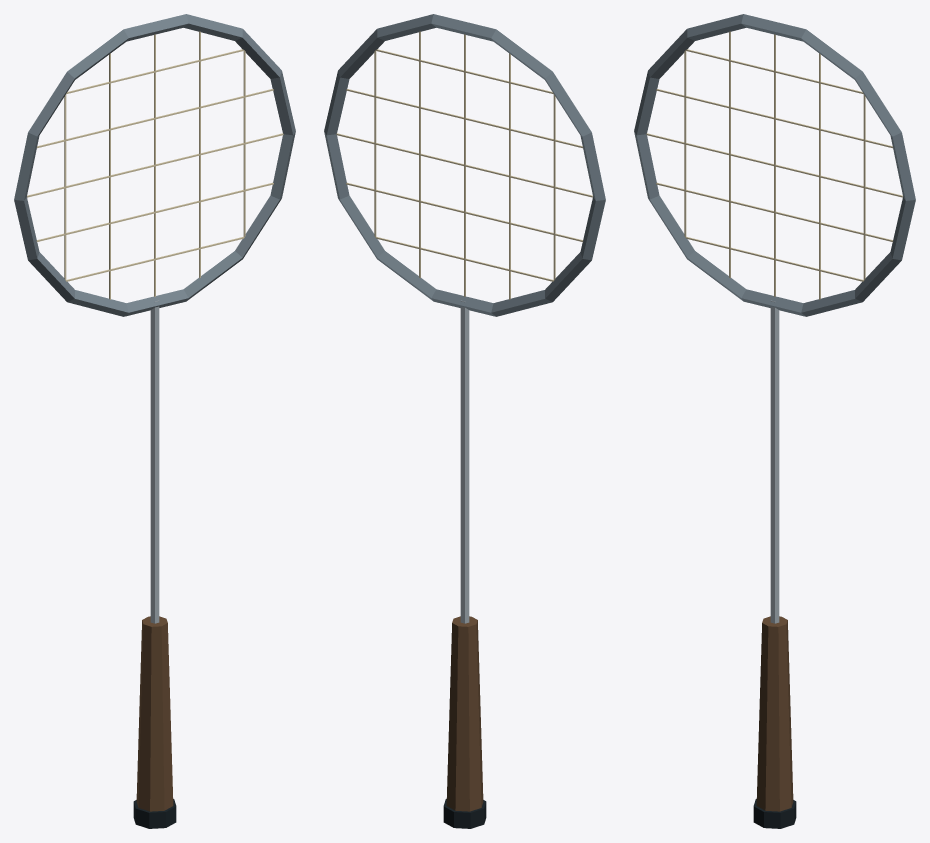
The model's file is b17_badminton_racket.glb.
3 renders of one model, left to right at view 1: azimuth 30°, elevation 25°; view 2: azimuth 150°, elevation 25°; view 3: azimuth 330°, elevation 25°, orthographic.
Visible parts, largest first — view 1: b17_badminton_racket; view 2: b17_badminton_racket; view 3: b17_badminton_racket.
Part boxes in pixels (x1=…): b17_badminton_racket: x1=14, y1=14, x2=295, y2=828; b17_badminton_racket: x1=324, y1=14, x2=605, y2=828; b17_badminton_racket: x1=634, y1=14, x2=915, y2=828.
Bounding box in the file's own units: 0.22 × 0.5952 × 0.03.
